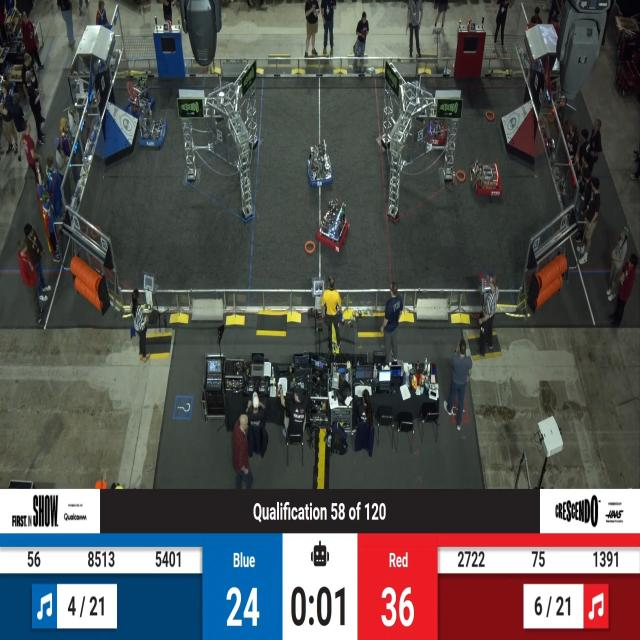Note: (125, 75, 139, 104), (454, 163, 468, 188), (304, 237, 316, 256), (484, 108, 496, 126)
Robot: (317, 196, 353, 252), (135, 100, 168, 152), (121, 70, 155, 116), (471, 157, 504, 202), (306, 138, 334, 188), (428, 96, 451, 149)
